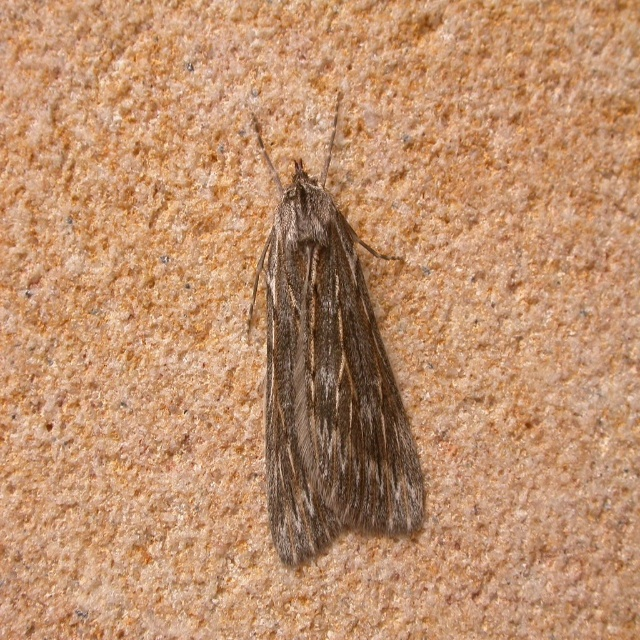Moths and butterflies: (240, 82, 431, 571)
